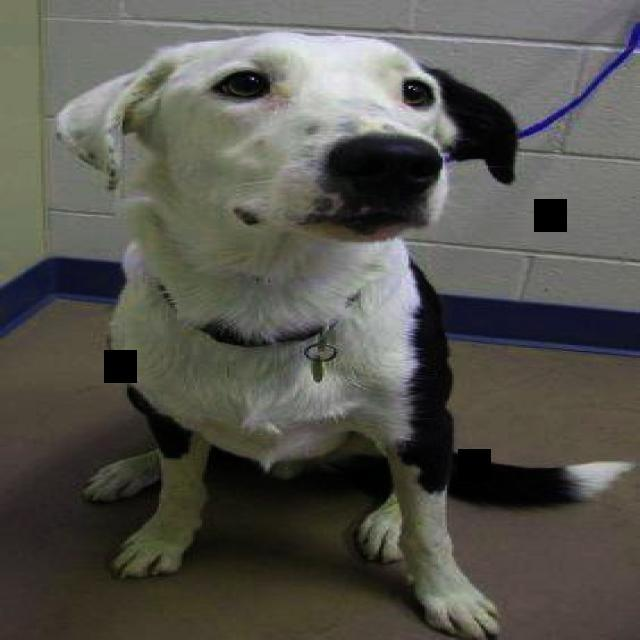adult_dog: (49, 23, 640, 640)
